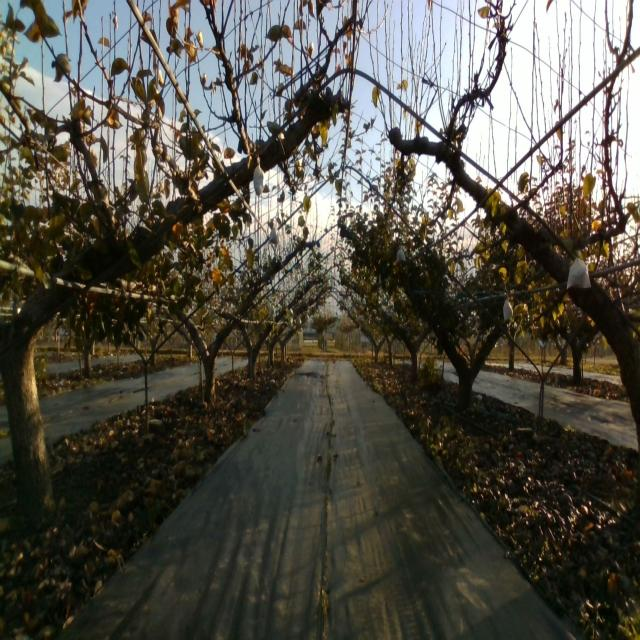pearbags: (565, 250, 592, 289), (252, 156, 266, 197), (268, 227, 282, 246), (503, 297, 513, 321)
